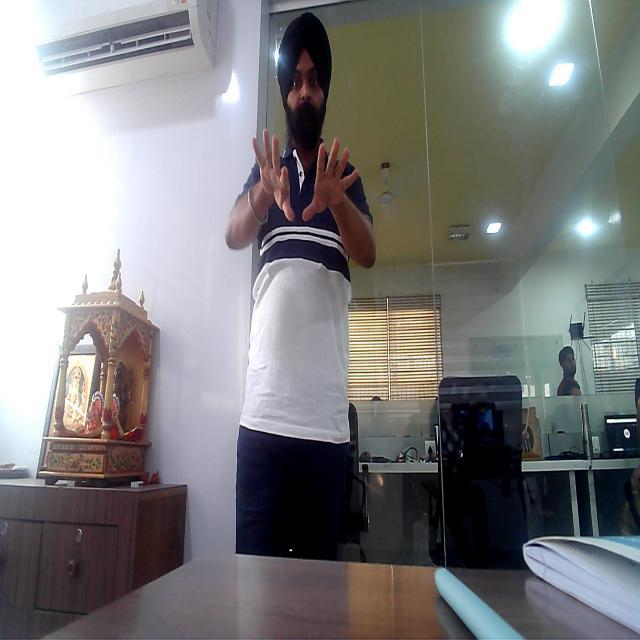without_gloves: (295, 137, 365, 234), (250, 124, 296, 226)
